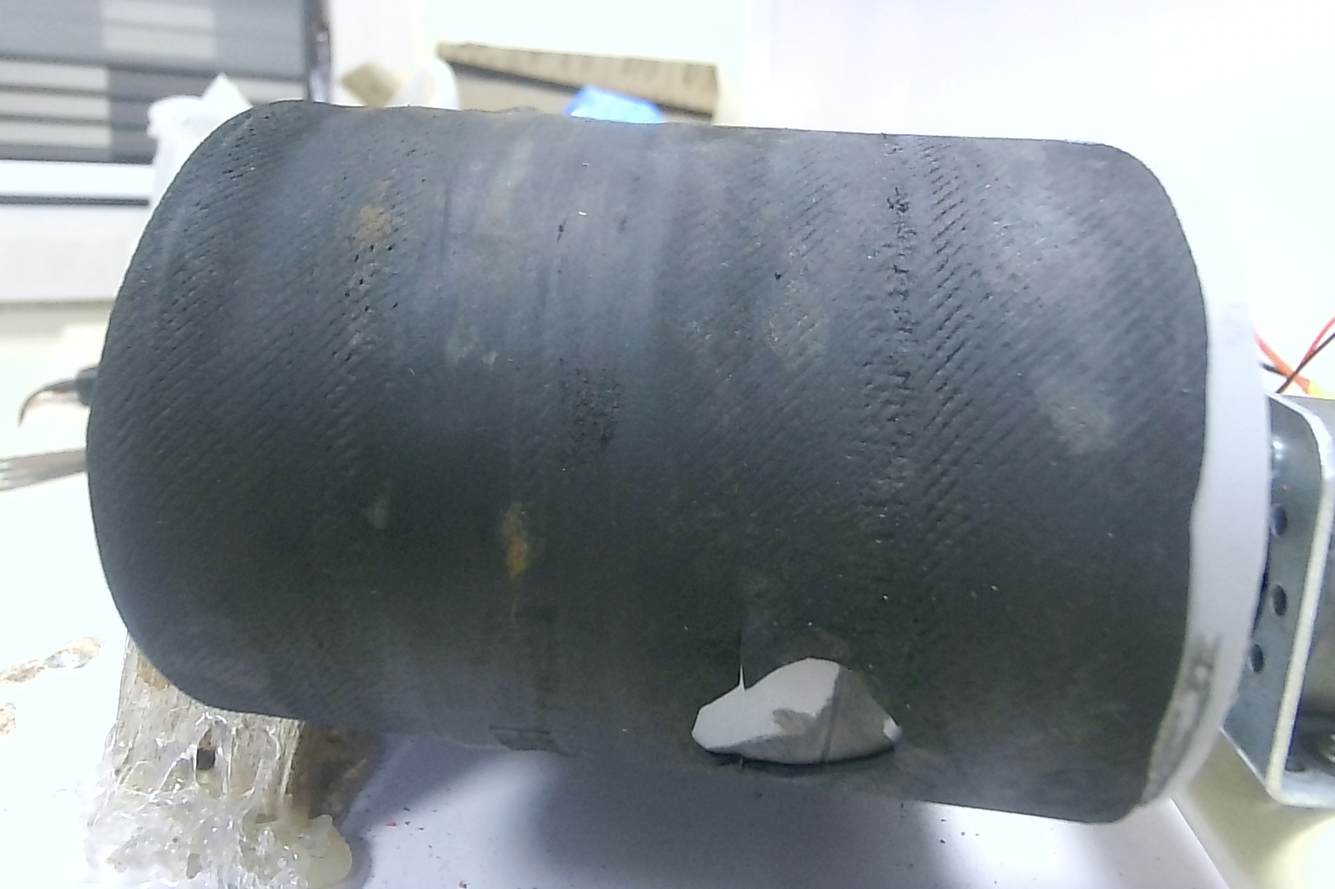hole: (722, 623, 899, 789)
